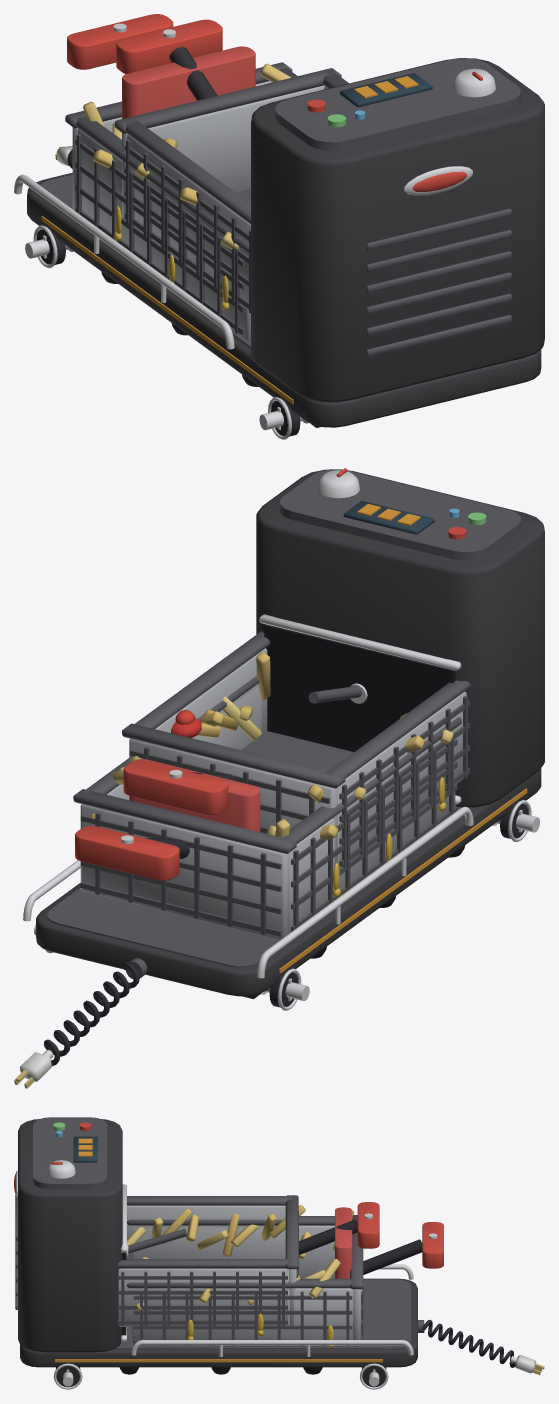
File: fryer.glb
The picture shows the model from 3 angles, top to bottom: view 1: azimuth 30°, elevation 25°; view 2: azimuth 150°, elevation 25°; view 3: azimuth 270°, elevation 25°; orthographic projection. The views are drawn at different scales.
Visible parts, largest first — view 1: fryer, fryer_sig, fryer_wreck; view 2: fryer, fryer_sig, fryer_wreck; view 3: fryer, fryer_sig, fryer_wreck.
Part boxes in pixels (left/top/right/bottom): fryer: left=14, top=14, right=544, bottom=439; fryer_sig: left=114, top=19, right=348, bottom=313; fryer_wreck: left=16, top=101, right=538, bottom=439; fryer: left=14, top=468, right=544, bottom=1088; fryer_sig: left=122, top=631, right=470, bottom=868; fryer_wreck: left=15, top=713, right=539, bottom=1088; fryer: left=14, top=1117, right=541, bottom=1388; fryer_sig: left=117, top=1195, right=379, bottom=1326; fryer_wreck: left=15, top=1210, right=544, bottom=1389.
Size of the model in its own units: 0.94 by 1.14 by 2.43.
